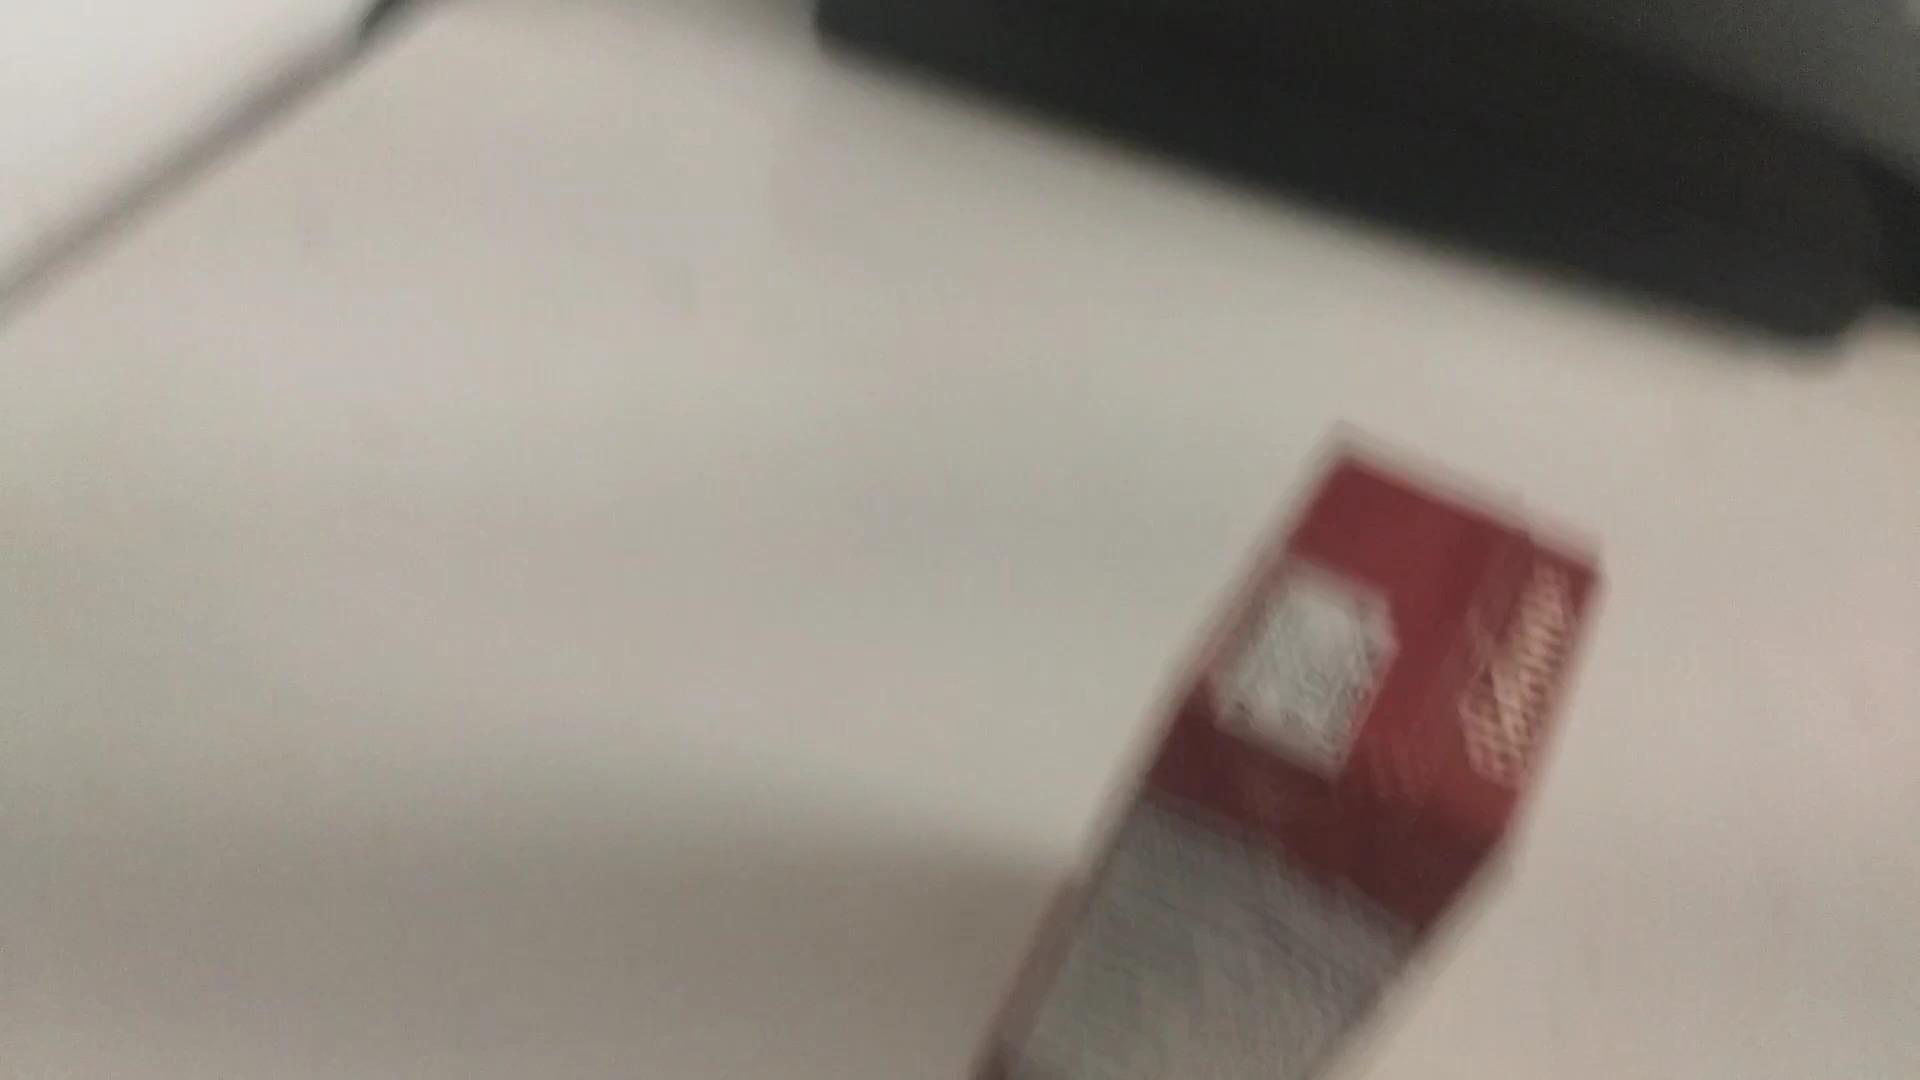tomate: (942, 419, 1600, 1080)
